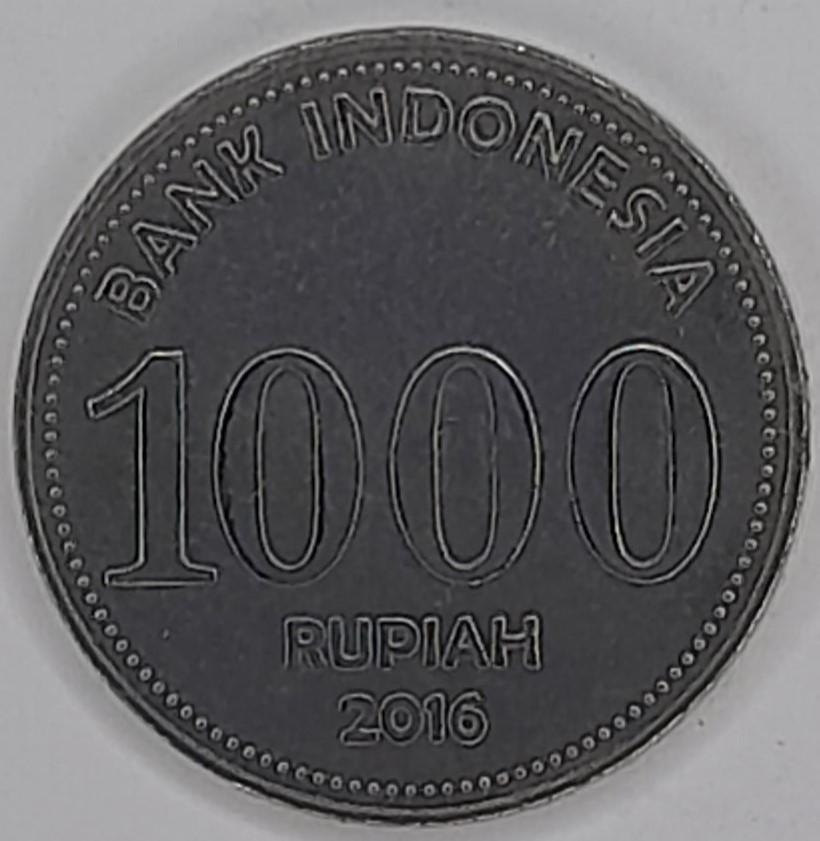coin_1000_e2016: (14, 17, 809, 841)
